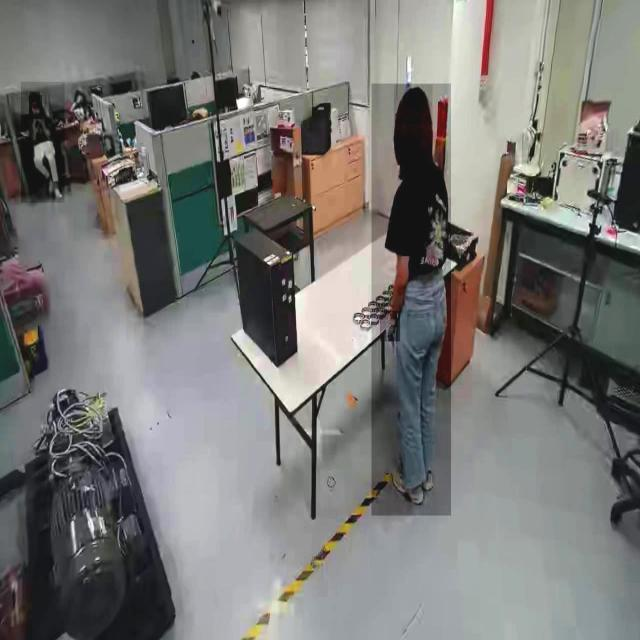face_mask: (29, 95, 42, 119)
hand_glove: (380, 311, 400, 342)
head_nohelmet: (393, 84, 432, 126), (30, 92, 40, 100)
person: (371, 84, 451, 516), (20, 82, 64, 204)
shoes: (390, 455, 428, 509)
